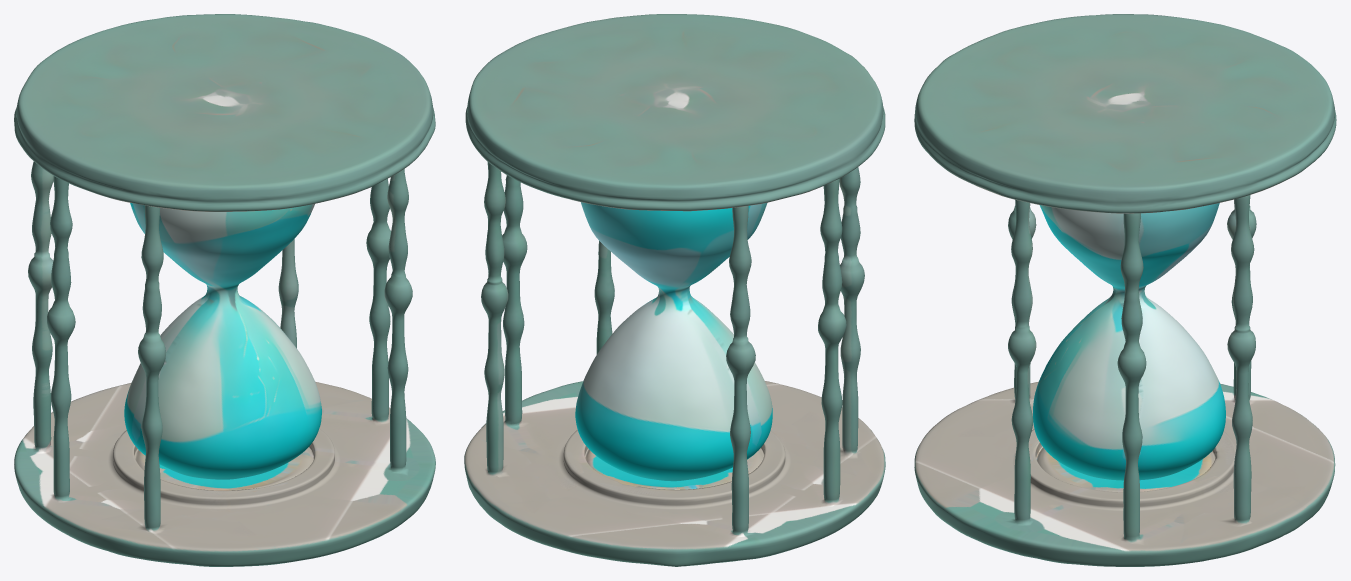
The model's file is powerup-timefreeze.glb.
The picture shows the model from 3 angles, left to right: view 1: azimuth 30°, elevation 25°; view 2: azimuth 150°, elevation 25°; view 3: azimuth 270°, elevation 25°; orthographic projection.
Visible parts, largest first — view 1: model; view 2: model; view 3: model.
Part boxes in pixels (x1,y1,x2,y2): model: (14,14,435,566); model: (464,14,885,566); model: (914,14,1336,566).
Bounding box in the file's own units: 1.91 × 1.9 × 1.9.
Materials: 1 (1 with a texture image).
